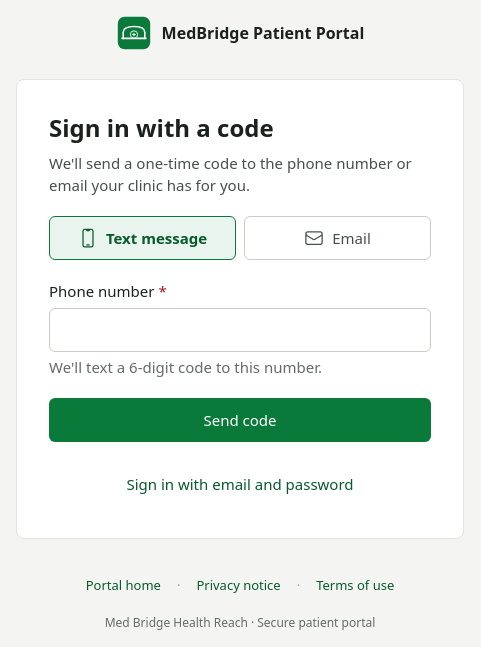
it: PortalCodeSignIn › sends the code and shows where it went, masked
The width and height of the screenshot is (481, 647).
Type "0803 123 4567" into the field labelled "Phone number*". click: {"x": 240, "y": 330}
box: [49, 308, 431, 352]
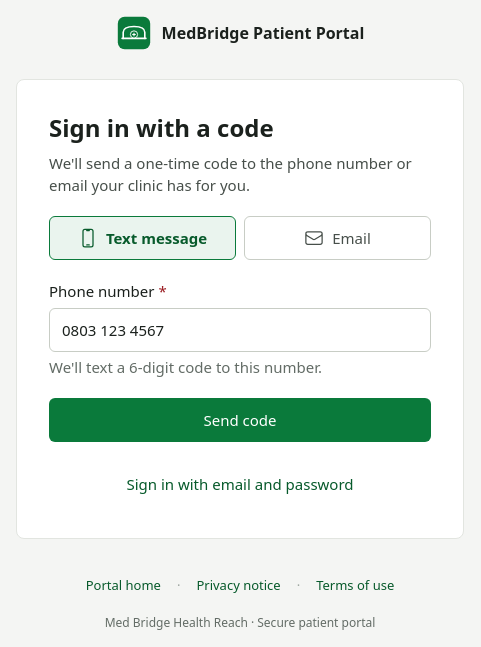
Click the button "Send code". click: {"x": 240, "y": 420}
box: [49, 398, 431, 442]
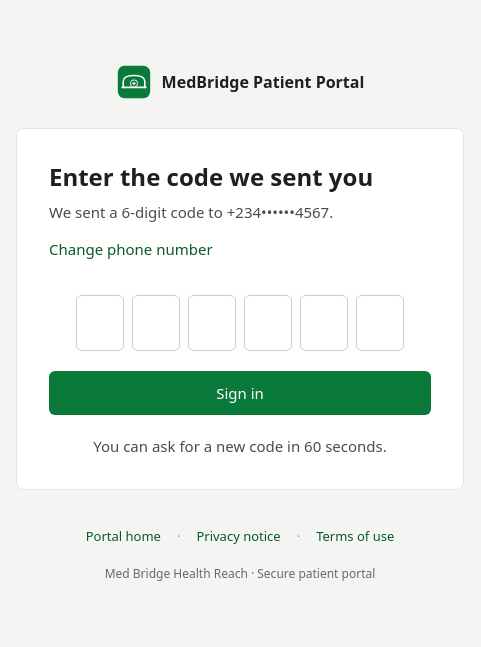
Check: the heading "Enter the code we sent you" is shown, box [49, 160, 373, 193]
Check: the text "We sent a 6-digit code to +234••••••4567." is shown, box [49, 202, 333, 222]
